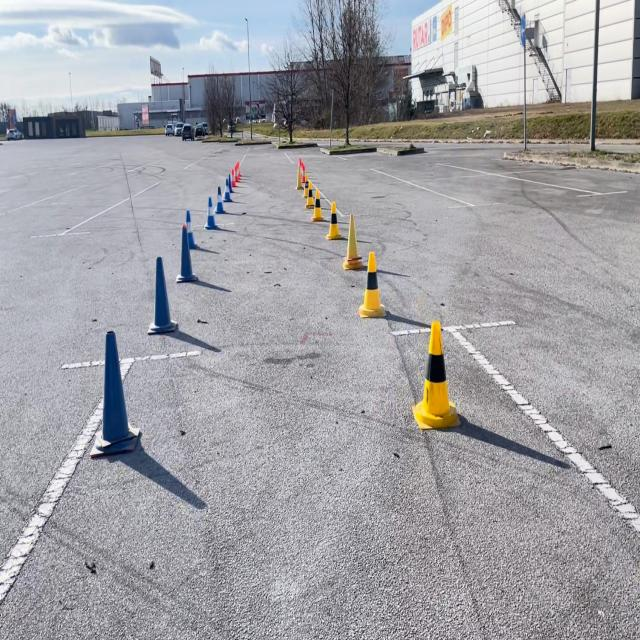blue_cone: (88, 326, 141, 457), (146, 252, 179, 335), (175, 213, 198, 282), (182, 202, 199, 255), (206, 194, 217, 232), (221, 174, 231, 206), (213, 184, 224, 212), (226, 174, 232, 203)
orange_cone: (295, 160, 304, 189), (232, 163, 240, 182)
yellow_cone: (410, 316, 460, 431), (358, 250, 386, 318), (340, 211, 365, 270), (324, 200, 342, 240), (304, 176, 318, 212), (310, 188, 324, 222), (304, 175, 312, 204)
